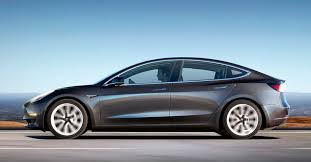car: (20, 55, 292, 141)
